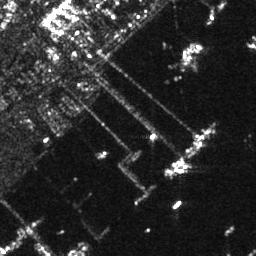ship: (171, 199, 184, 211), (222, 224, 234, 236)
